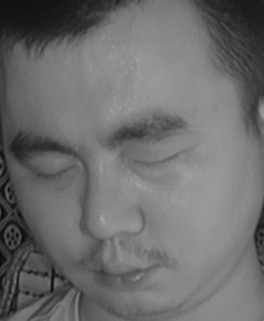blink: (125, 143, 184, 179), (32, 157, 76, 188)
mouth: (86, 246, 158, 296)
